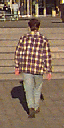person: (13, 17, 51, 110)
